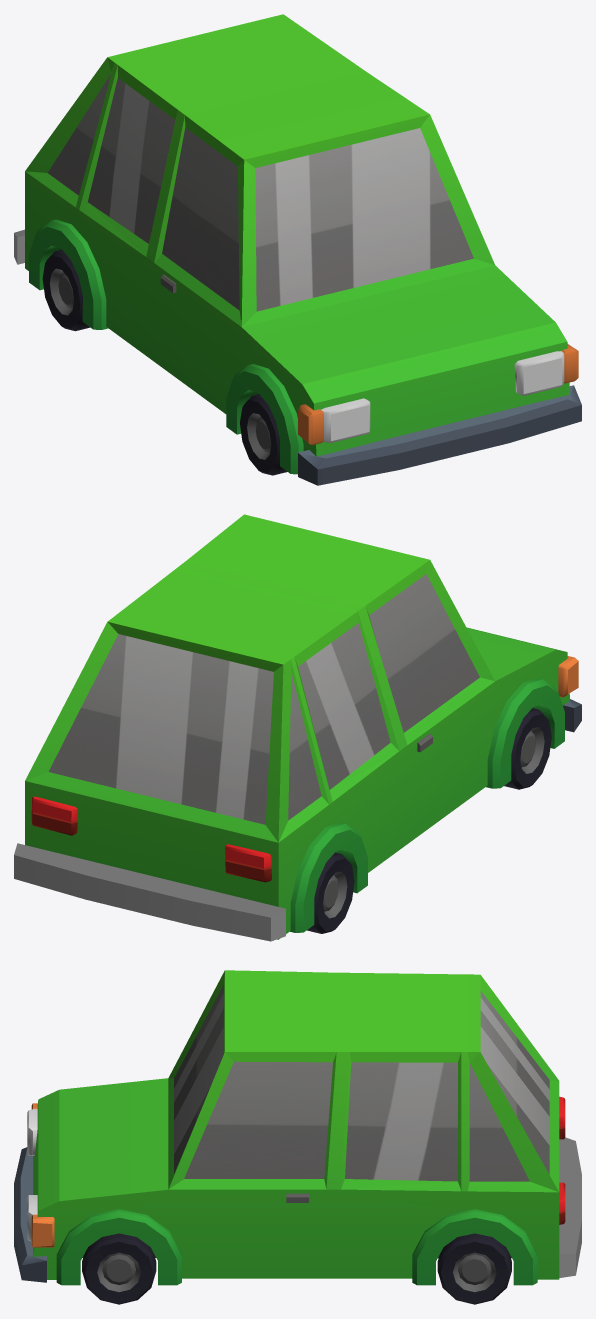
The model's file is Car_1_5.fbx.
The picture shows the model from 3 angles, top to bottom: view 1: azimuth 30°, elevation 25°; view 2: azimuth 150°, elevation 25°; view 3: azimuth 270°, elevation 25°; orthographic projection. The views are drawn at different scales.
Parts seen in each view (by area): view 1: Car_1_5, Wheel_Br, Wheel_Fr; view 2: Car_1_5, Wheel_Fr, Wheel_Br; view 3: Car_1_5, Wheel_Fl, Wheel_Bl.
Part boxes in pixels (<box>): Car_1_5: <box>14,14,581,485</box>; Wheel_Br: <box>42,249,89,331</box>; Wheel_Fr: <box>240,394,287,475</box>; Car_1_5: <box>14,514,581,941</box>; Wheel_Fr: <box>504,708,551,789</box>; Wheel_Br: <box>307,852,354,933</box>; Car_1_5: <box>14,970,581,1285</box>; Wheel_Fl: <box>82,1233,156,1304</box>; Wheel_Bl: <box>437,1233,511,1304</box>.
Size of the model in its own units: 105 by 94.33 by 207.
